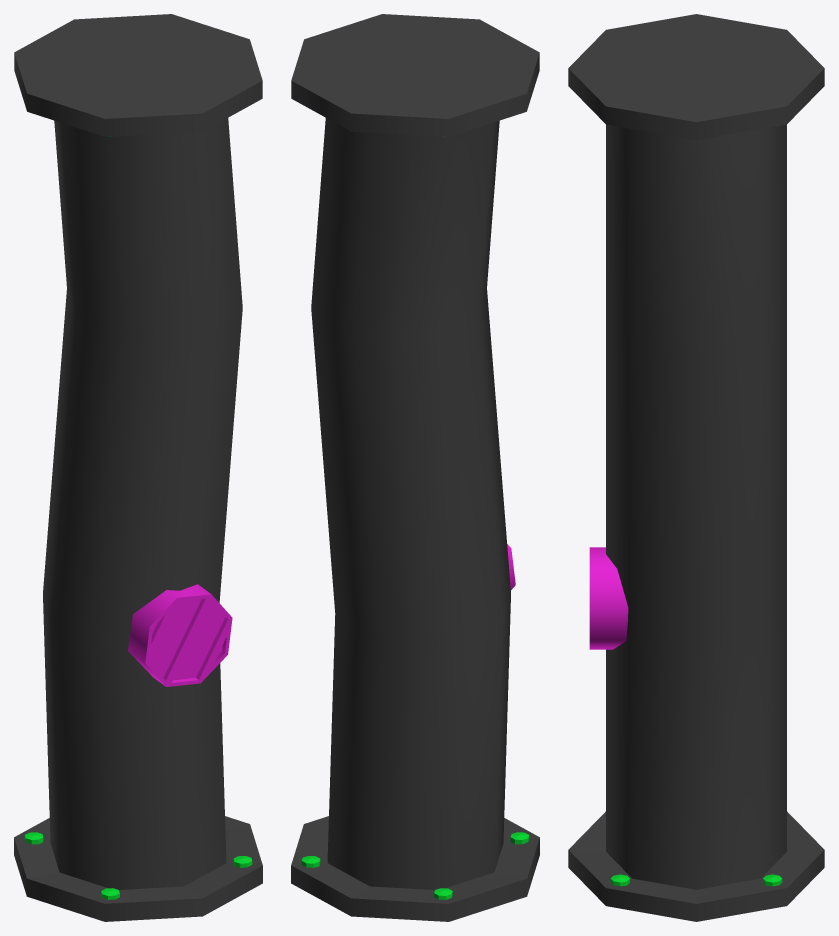
The model's file is SM_ENV_PIPE_STRAIGHT_01.FBX.
3 views of the same model, side by side, from view 1: azimuth 30°, elevation 25°; view 2: azimuth 150°, elevation 25°; view 3: azimuth 270°, elevation 25° (orthographic).
Parts seen in each view (by area): view 1: pipe_straight_01; view 2: pipe_straight_01; view 3: pipe_straight_01.
Part boxes in pixels (x1,y1,x2,y2): pipe_straight_01: (14,14,262,921); pipe_straight_01: (291,14,539,921); pipe_straight_01: (568,14,824,921).
Size of the model in its own units: 50.83 by 175 by 50.71.
